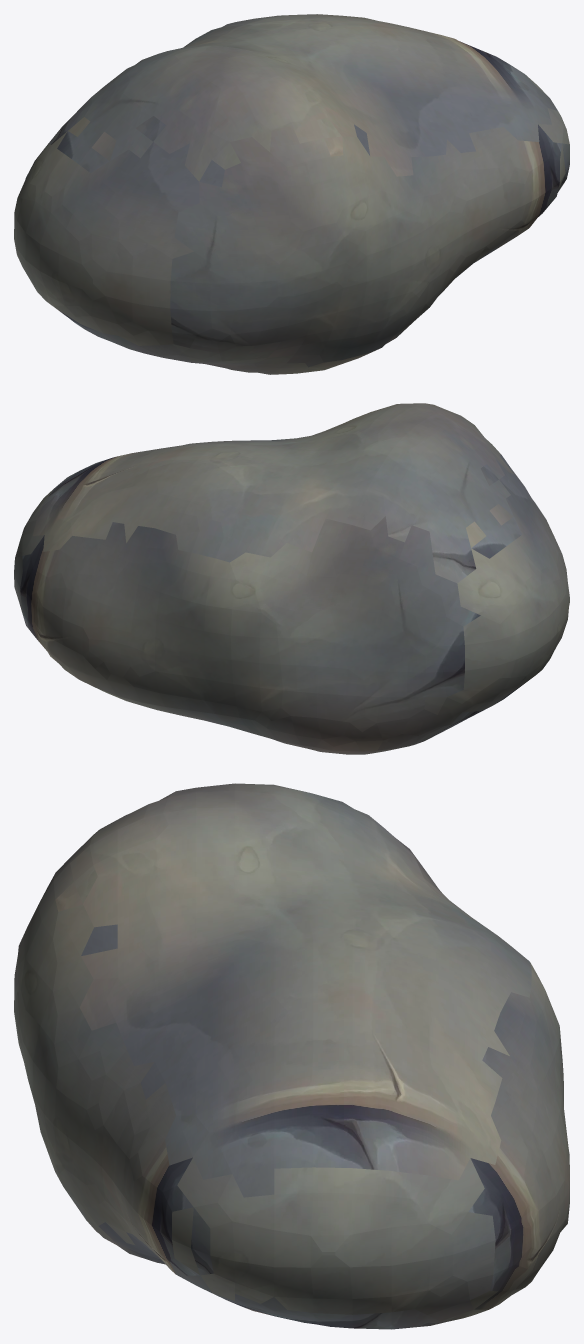
Rendered from mossy_stone1_s31893.gltf.
3 renders of one model, top to bottom at view 1: azimuth 30°, elevation 25°; view 2: azimuth 150°, elevation 25°; view 3: azimuth 270°, elevation 25°, orthographic. The views are drawn at different scales.
Parts seen in each view (by area): view 1: mossy_stone1_s31893_stone_LOD0; view 2: mossy_stone1_s31893_stone_LOD0; view 3: mossy_stone1_s31893_stone_LOD0.
Part boxes in pixels (box(x1,y1,x2,y2)): mossy_stone1_s31893_stone_LOD0: box(14, 14, 569, 374); mossy_stone1_s31893_stone_LOD0: box(14, 403, 569, 754); mossy_stone1_s31893_stone_LOD0: box(14, 783, 569, 1329).
Size of what is drawn, in the model's own units: 0.7226 by 0.403 by 0.4969.
Materials: 1 (1 with a texture image).
